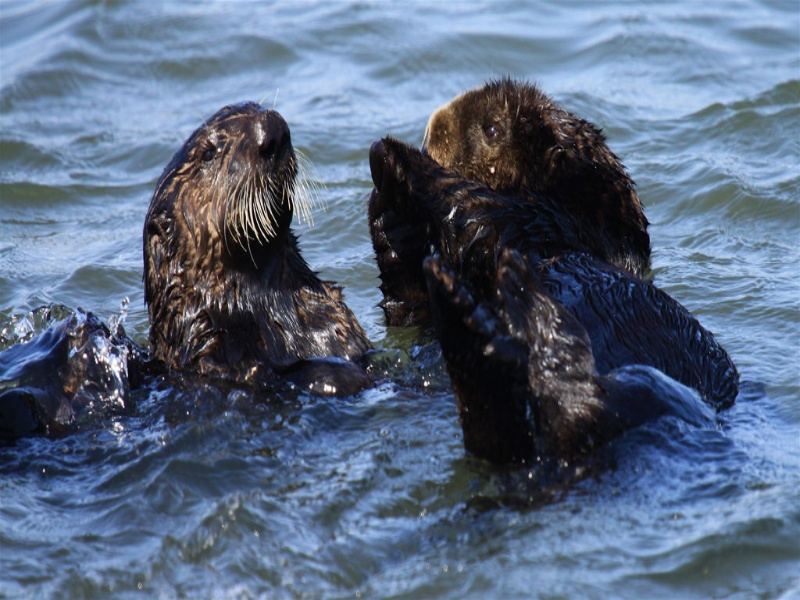minkish: (130, 104, 315, 259), (404, 80, 570, 208)
